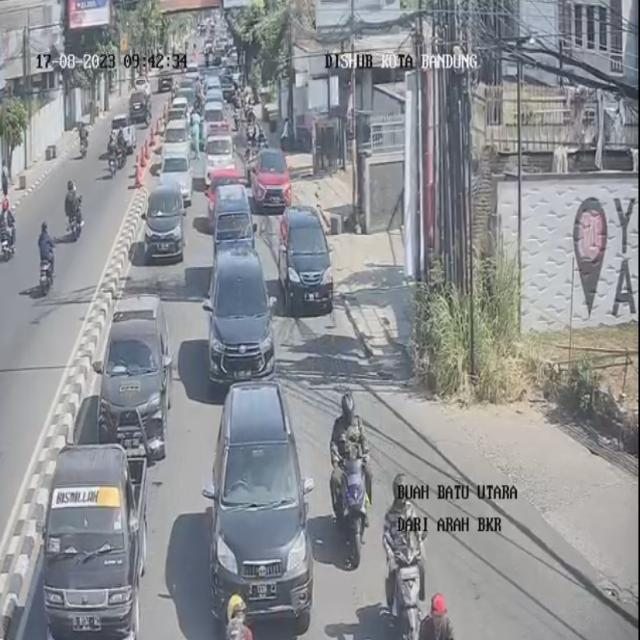cars: (207, 375, 312, 629), (37, 446, 148, 640), (102, 292, 174, 463), (207, 242, 270, 386), (279, 205, 332, 310), (214, 182, 258, 267), (148, 174, 187, 258), (255, 140, 289, 206), (205, 125, 235, 184), (161, 143, 193, 198), (202, 100, 228, 146), (166, 117, 194, 157), (169, 98, 192, 141), (177, 80, 200, 114), (205, 77, 224, 107)
motorcycle: (378, 472, 424, 640), (332, 408, 372, 556), (416, 590, 464, 640), (223, 591, 261, 640)
